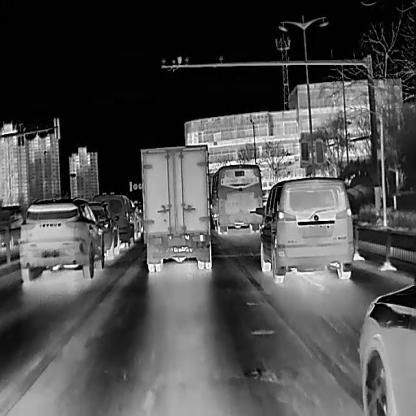car: (255, 176, 354, 283), (140, 143, 212, 271), (18, 198, 104, 281), (209, 163, 264, 233), (92, 193, 135, 248), (84, 199, 120, 259), (0, 205, 25, 249)
